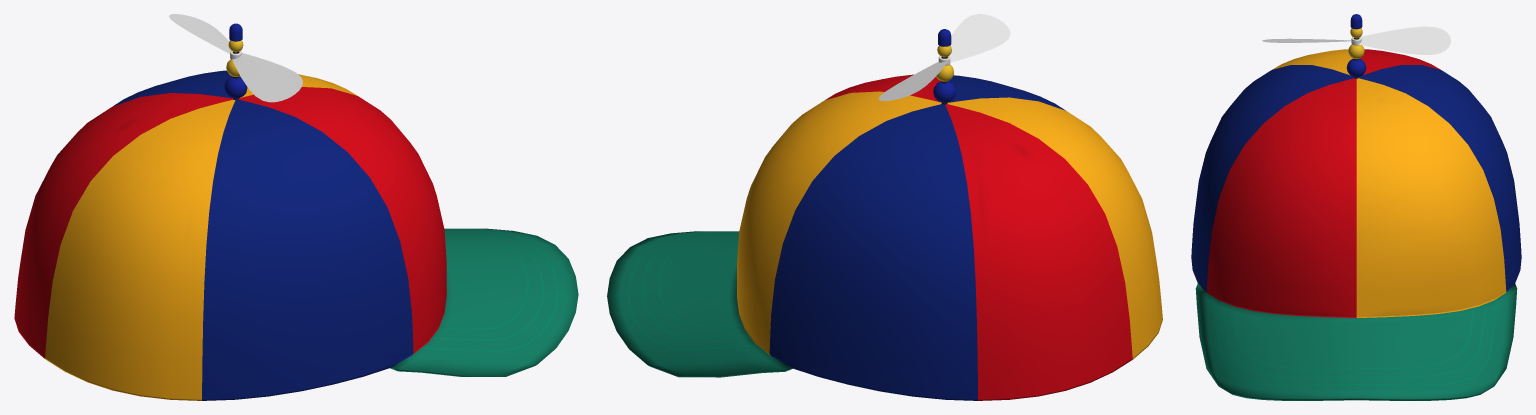
Rendered from gorrit.glb.
3 renders of one model, left to right at view 1: azimuth 30°, elevation 25°; view 2: azimuth 150°, elevation 25°; view 3: azimuth 270°, elevation 25°, orthographic. The views are drawn at different scales.
Parts seen in each view (by area): view 1: cap, propeller, blue_sphere; view 2: cap, propeller, blue_sphere; view 3: cap, propeller, blue_sphere, yellow_sphere.
Boxes of the visible parts, x1,y1,x2,y2 form: cap: (14,70,578,400); propeller: (169,14,302,102); blue_sphere: (224,23,247,98); cap: (607,74,1162,400); propeller: (878,14,1010,100); blue_sphere: (933,29,955,102); cap: (1191,49,1521,400); propeller: (1262,26,1450,54); blue_sphere: (1346,14,1366,77); yellow_sphere: (1348,28,1364,59).
Size of the model in its own units: 0.2415 by 0.1521 by 0.1607.
Materials: 6 (2 with a texture image).
